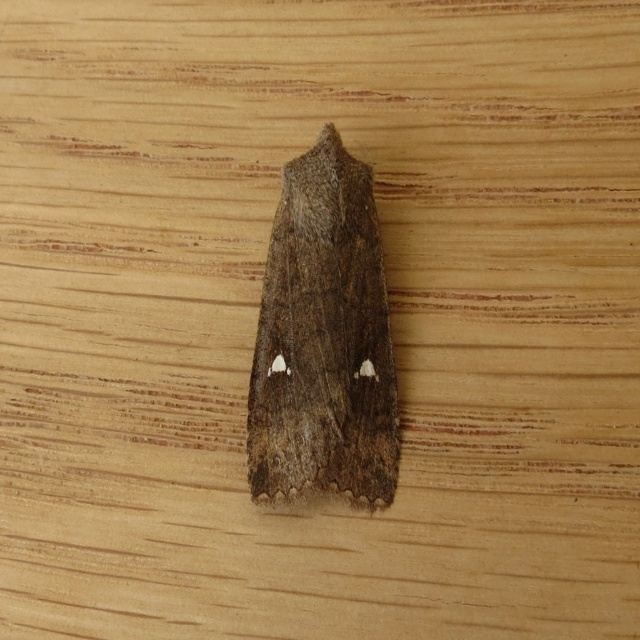Moths and butterflies: (242, 121, 406, 515)
